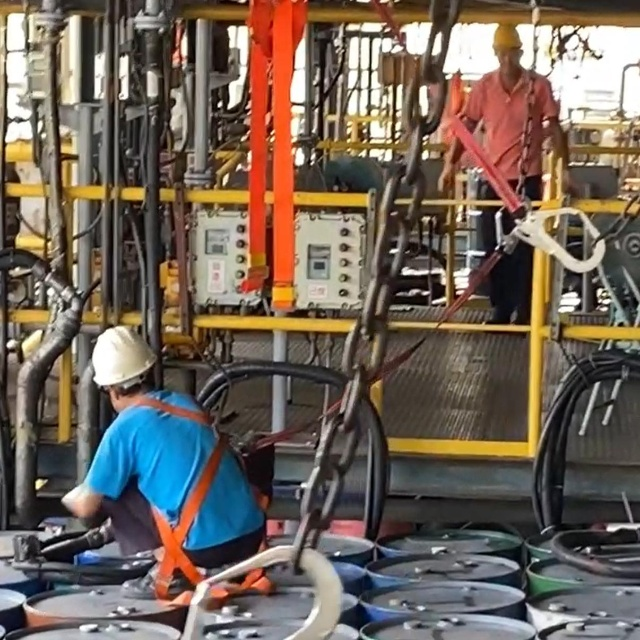Arnes_seguridad: (121, 397, 269, 602)
